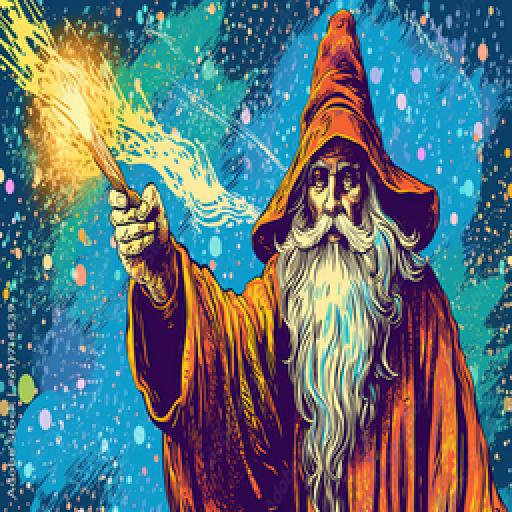wizards: (106, 6, 507, 512)
